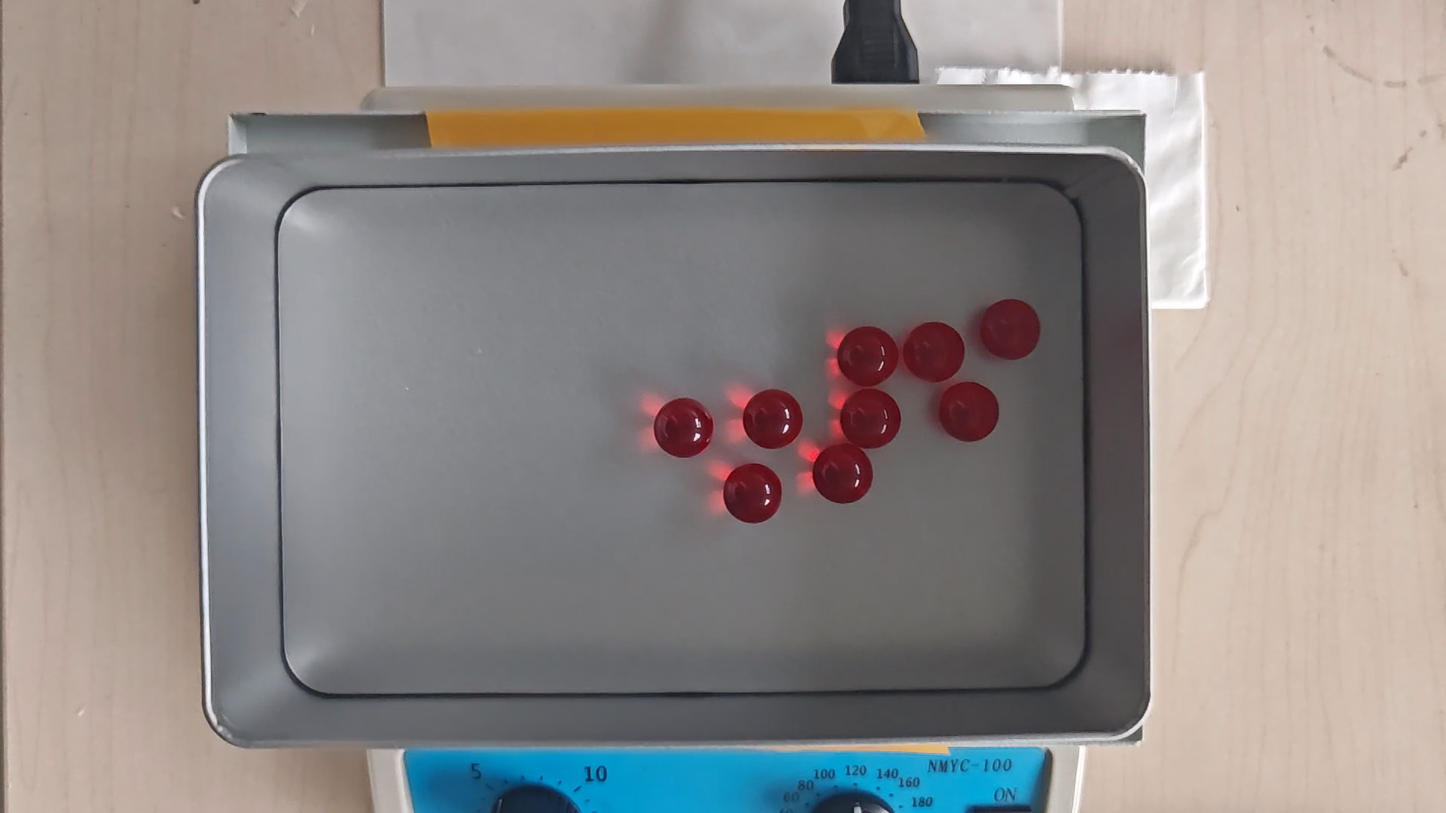ball: (812, 443, 874, 506), (837, 325, 899, 387), (980, 298, 1041, 361), (653, 397, 714, 459), (939, 380, 999, 443), (723, 462, 783, 524), (743, 389, 803, 450), (841, 388, 901, 449), (904, 322, 964, 382)
container: (279, 181, 1086, 694)
